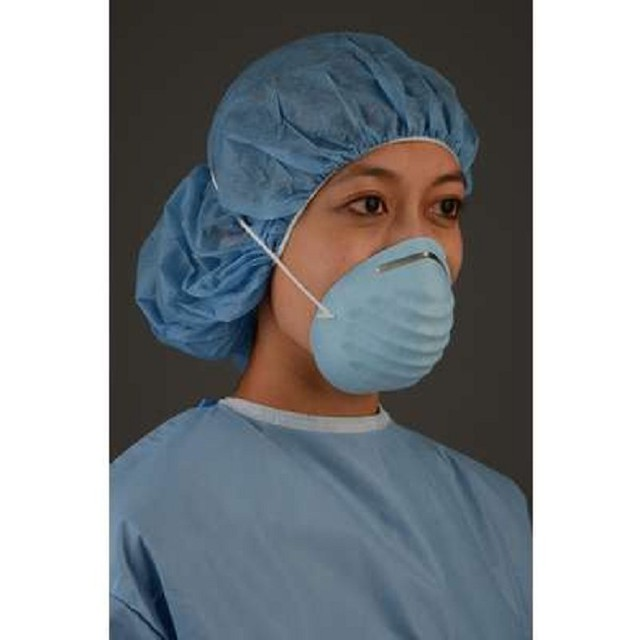mask: (336, 273, 459, 394)
